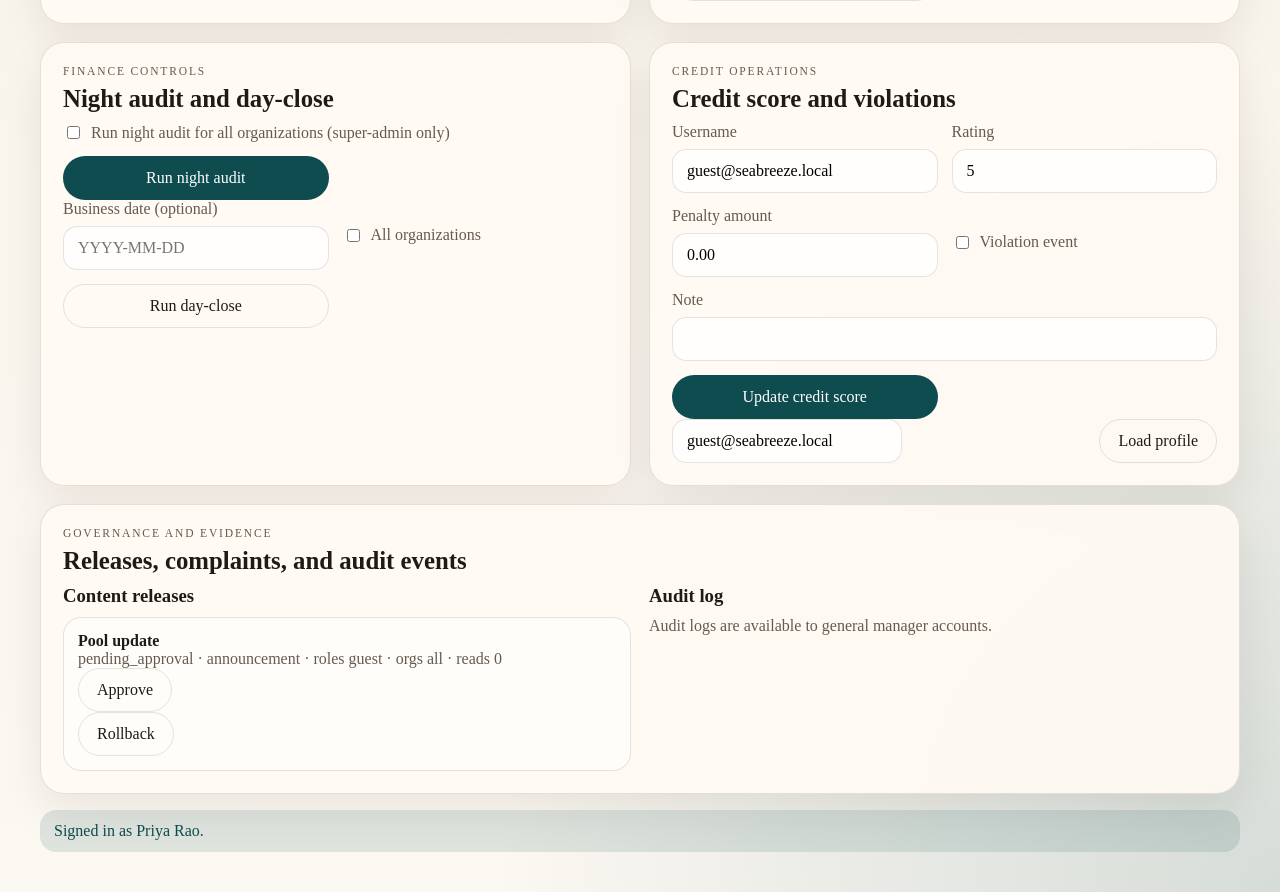
Test: App integration workflows › supports gm content approval and rollback actions
(page scrolled)
Click the button "Approve" at x=125, y=690, box x1=78 y1=668 x2=172 y2=712
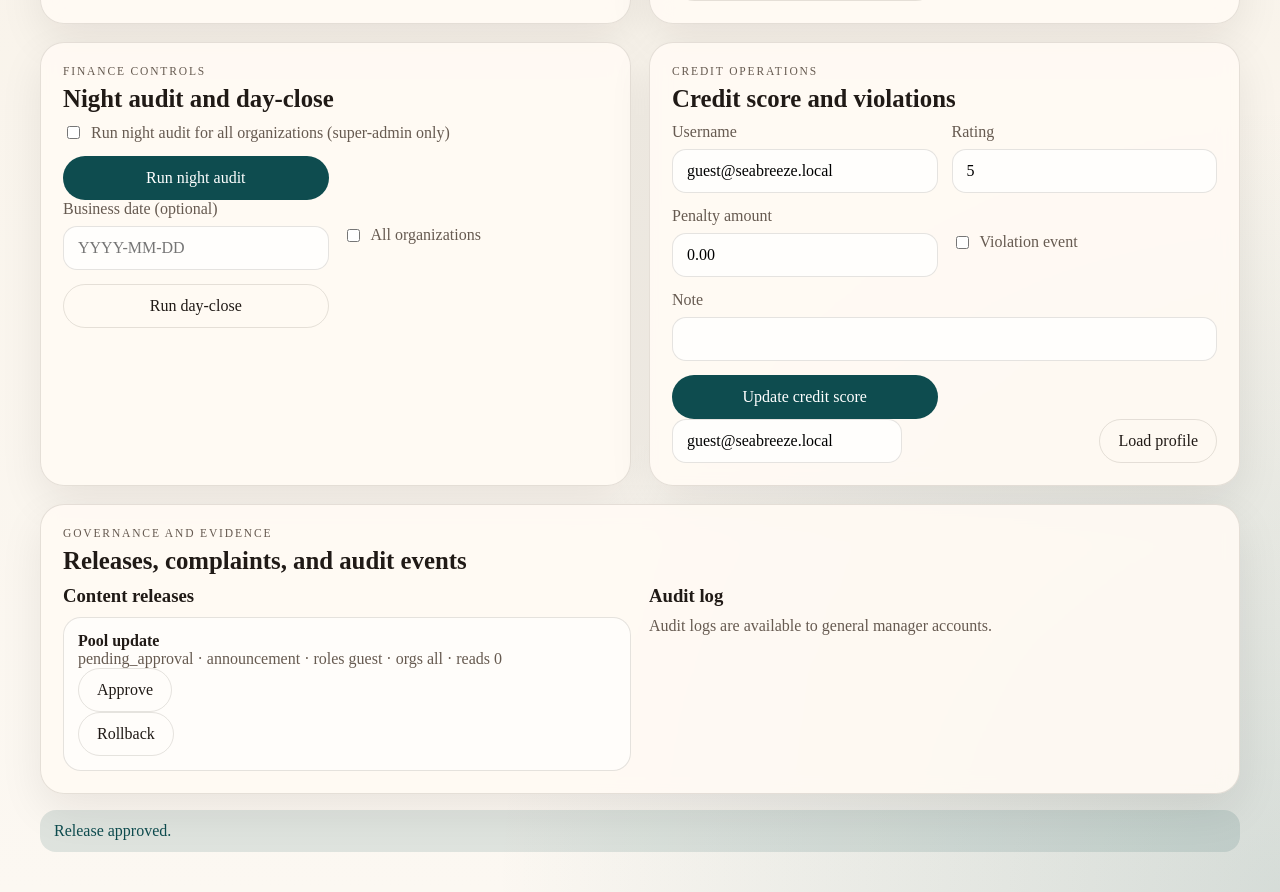
Expected: the text "Release approved." is shown, x1=40 y1=810 x2=1240 y2=852
Click the button "Rollback" at x=126, y=734, box x1=78 y1=712 x2=174 y2=756
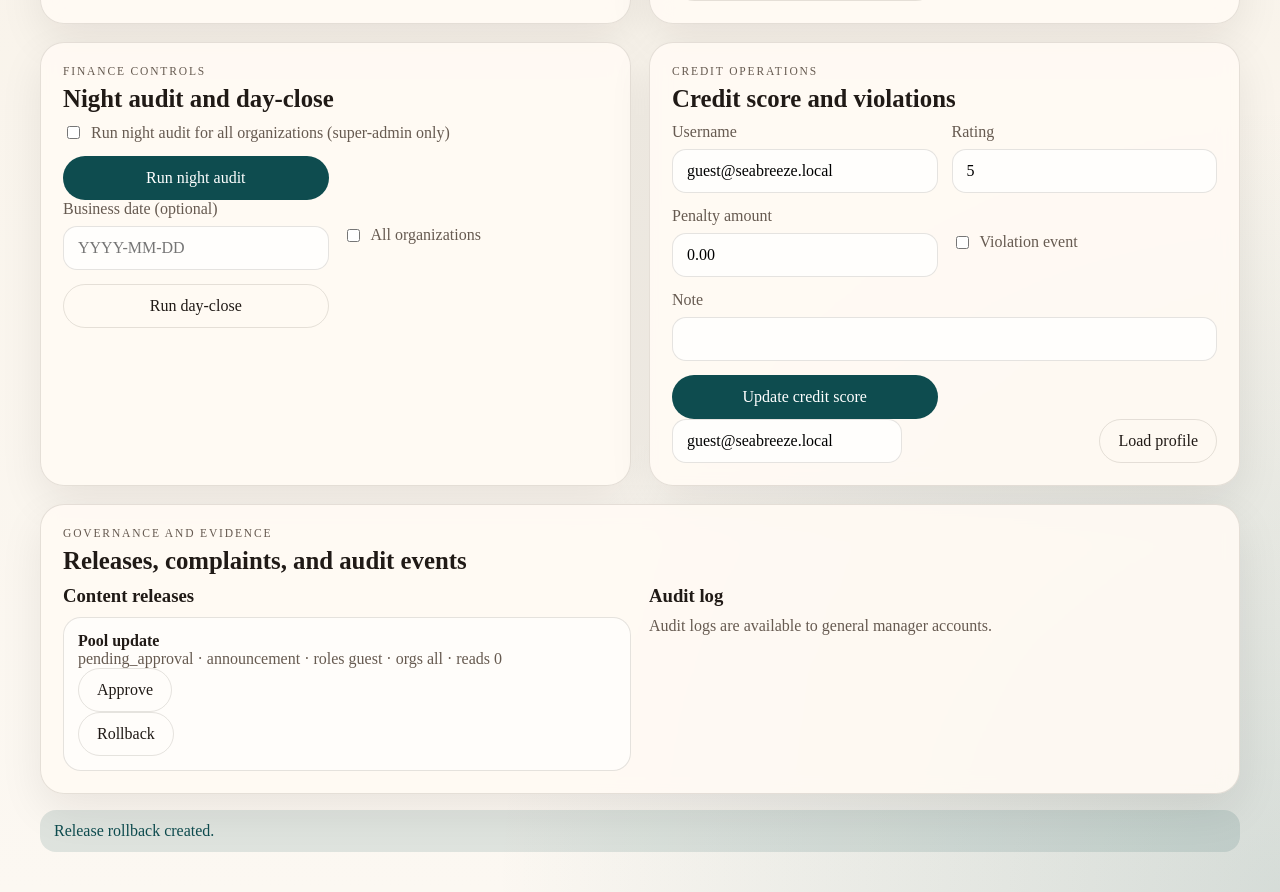
Expected: the text "Release rollback created." is shown, x1=40 y1=810 x2=1240 y2=852
